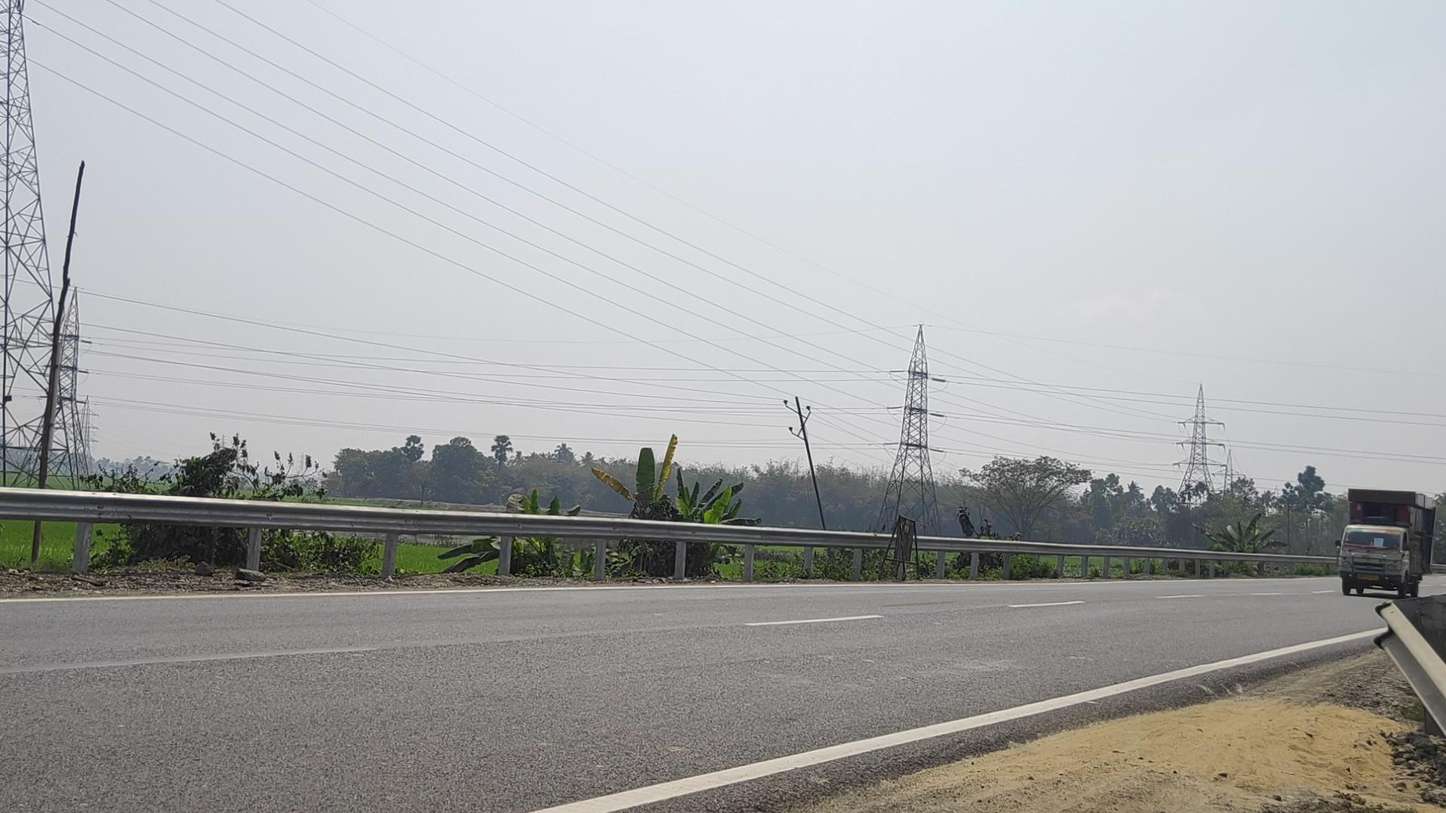van: (1335, 488, 1435, 599)
